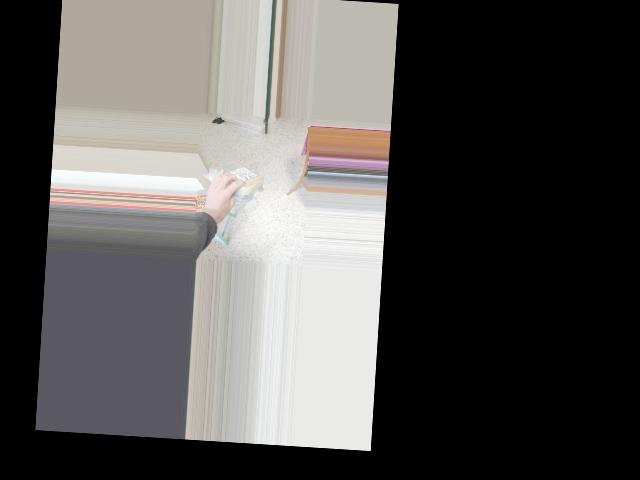cheese: (202, 163, 264, 196)
